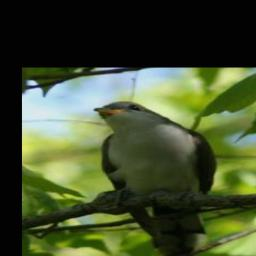Cuckoo: (93, 100, 220, 256)
